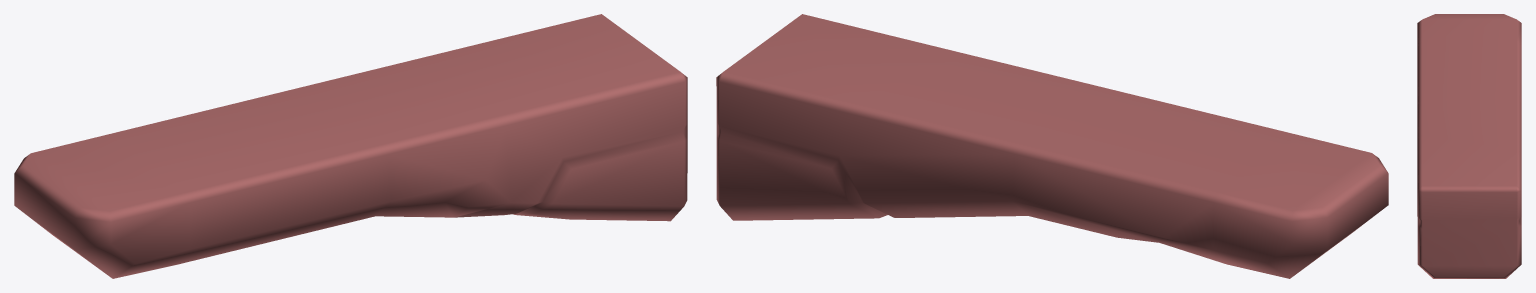
Rendered from PlatformSupportLong.fbx.
3 views of the same model, side by side, from view 1: azimuth 30°, elevation 25°; view 2: azimuth 150°, elevation 25°; view 3: azimuth 270°, elevation 25° (orthographic). The views are drawn at different scales.
Visible parts, largest first — view 1: PlatformSupportLong; view 2: PlatformSupportLong; view 3: PlatformSupportLong.
Boxes of the visible parts, left/top/right/bottom form: PlatformSupportLong: left=14, top=14, right=687, bottom=278; PlatformSupportLong: left=716, top=14, right=1388, bottom=278; PlatformSupportLong: left=1417, top=14, right=1521, bottom=278.
Size of the model in its own units: 400 by 98.72 by 100.
